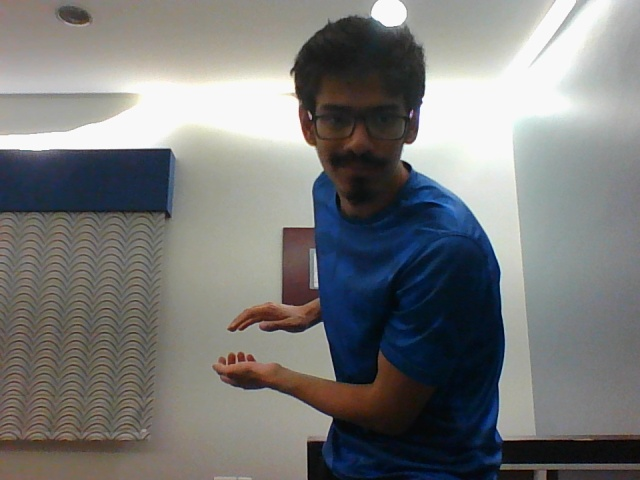charge: (203, 290, 307, 394)
